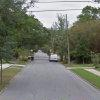Tree: (55, 10, 100, 59)
